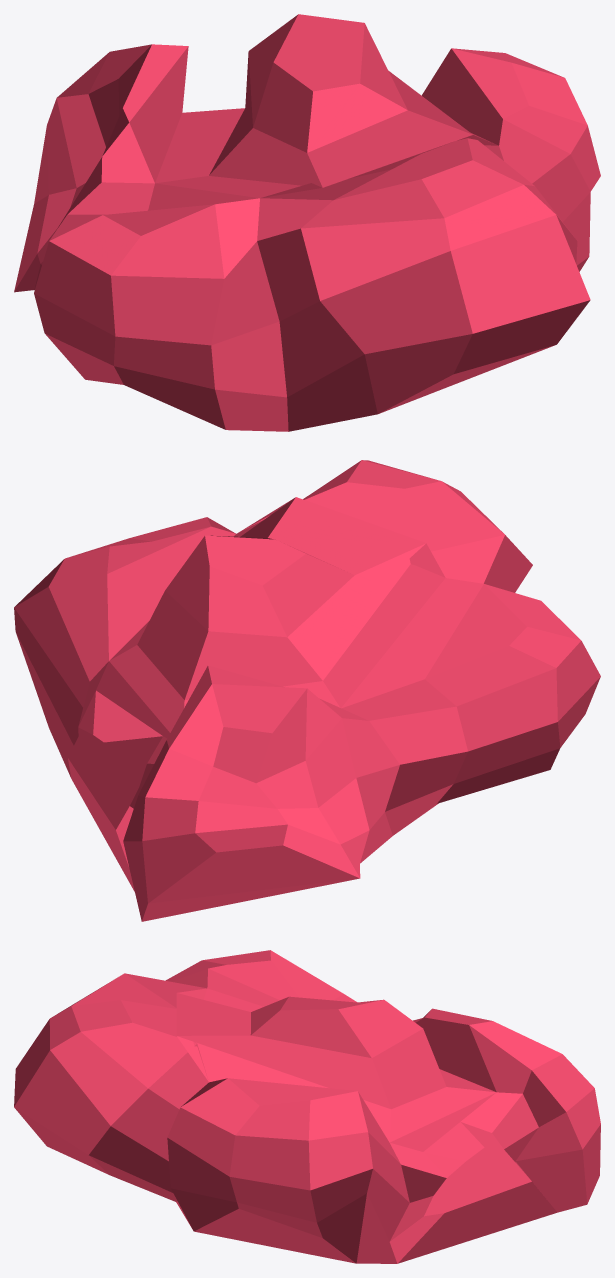
File: AshyBush_02.fbx
The picture shows the model from 3 angles, top to bottom: view 1: azimuth 30°, elevation 25°; view 2: azimuth 150°, elevation 25°; view 3: azimuth 270°, elevation 25°; orthographic projection. The views are drawn at different scales.
Visible parts, largest first — view 1: Dry ashy bush.001; view 2: Dry ashy bush.001; view 3: Dry ashy bush.001.
Boxes of the visible parts, <box> form: Dry ashy bush.001: <box>14,14,600,431</box>; Dry ashy bush.001: <box>14,460,600,921</box>; Dry ashy bush.001: <box>14,950,600,1263</box>.
Bounding box in the file's own units: 311 × 159 × 367.
